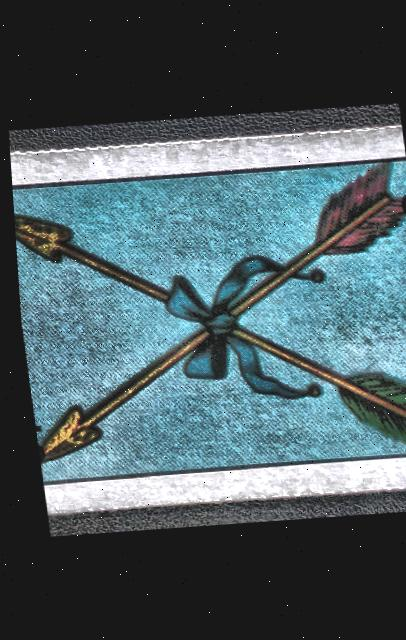Las Jaras: (7, 130, 406, 499)
